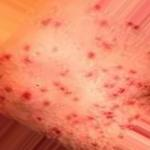Ants: (51, 79, 72, 97), (92, 35, 113, 52), (49, 124, 63, 139), (21, 54, 33, 67), (125, 20, 139, 30), (103, 110, 114, 122), (59, 68, 71, 79), (88, 139, 100, 150), (21, 89, 32, 100), (92, 2, 103, 12), (98, 20, 109, 29), (40, 17, 52, 25), (0, 85, 12, 93), (124, 98, 137, 105), (109, 102, 119, 111), (72, 116, 83, 124), (65, 113, 77, 119), (1, 53, 11, 60), (84, 71, 93, 78), (128, 68, 137, 75), (35, 116, 43, 123), (111, 73, 119, 80), (104, 83, 114, 88), (86, 115, 95, 120), (88, 51, 94, 58), (43, 99, 49, 106), (23, 43, 29, 50), (54, 21, 61, 27), (100, 67, 107, 73), (52, 45, 58, 52), (40, 87, 47, 92), (118, 88, 124, 93), (112, 93, 117, 98), (118, 133, 123, 138), (73, 97, 78, 100), (117, 66, 121, 68)
